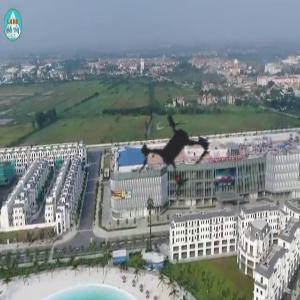drone: (91, 69, 254, 232)
